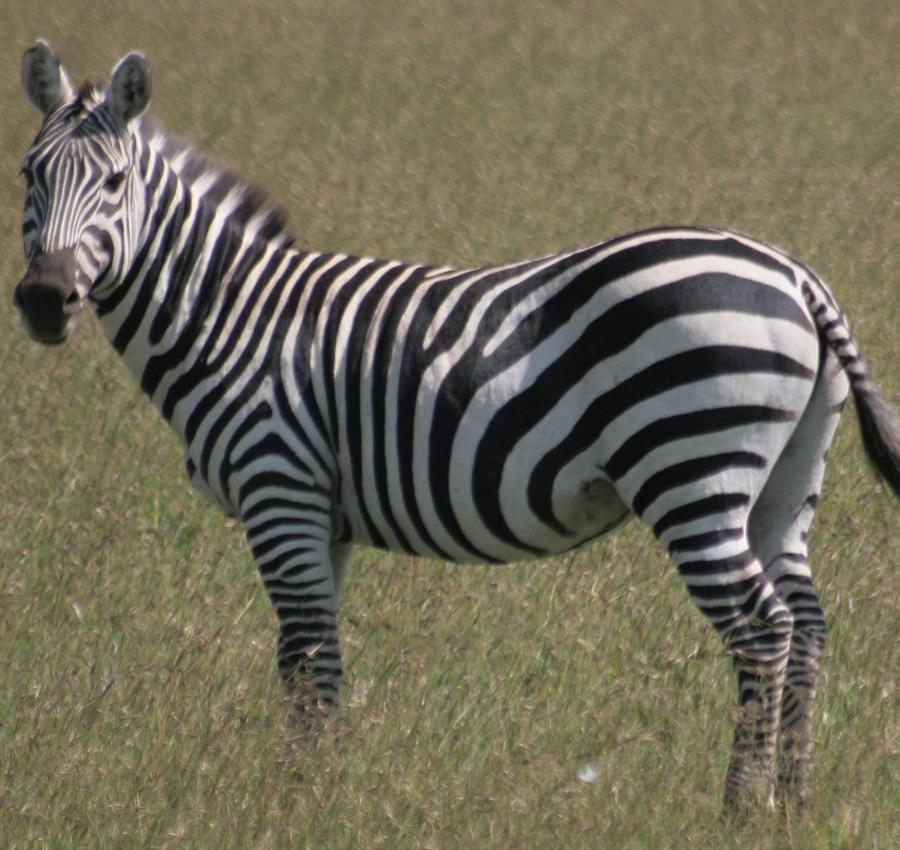zebra_plains: (173, 231, 780, 577)
